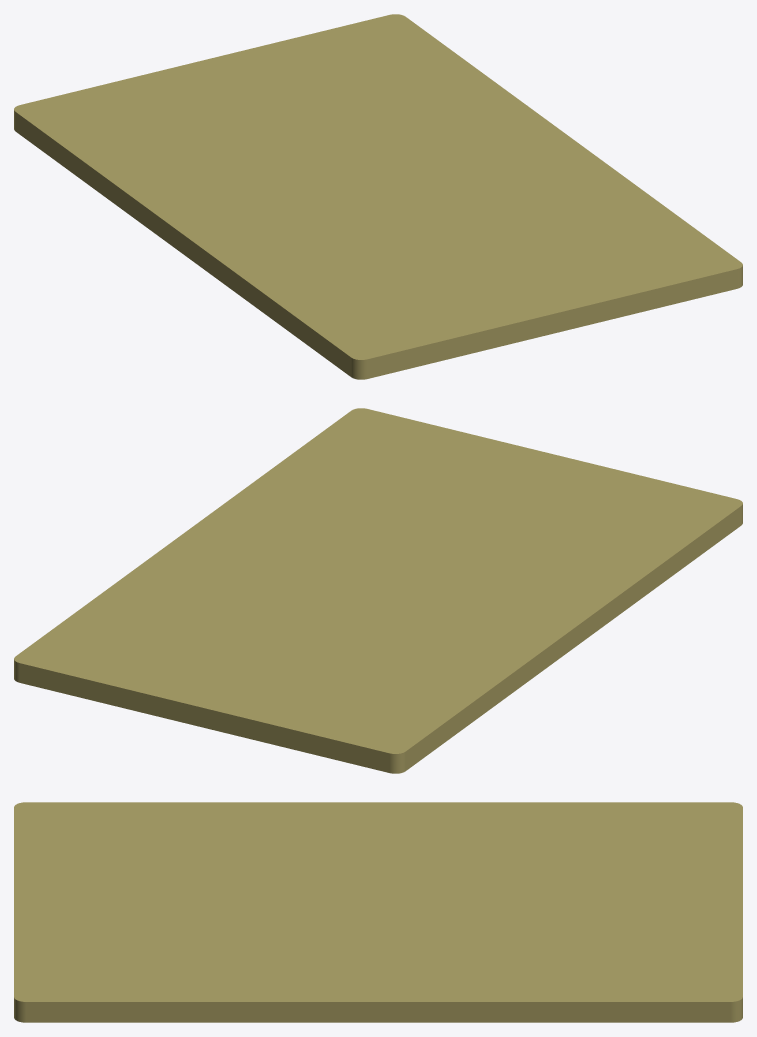
The model's file is ChoppingBoard.fbx.
The picture shows the model from 3 angles, top to bottom: view 1: azimuth 30°, elevation 25°; view 2: azimuth 150°, elevation 25°; view 3: azimuth 270°, elevation 25°; orthographic projection. The views are drawn at different scales.
Visible parts, largest first — view 1: pCube3; view 2: pCube3; view 3: pCube3.
Boxes of the visible parts, x1=… form: pCube3: x1=14, y1=14, x2=742, y2=379; pCube3: x1=14, y1=408, x2=742, y2=773; pCube3: x1=14, y1=802, x2=742, y2=1022.
Bounding box in the file's own units: 28.95 × 1.4 × 44.65.
